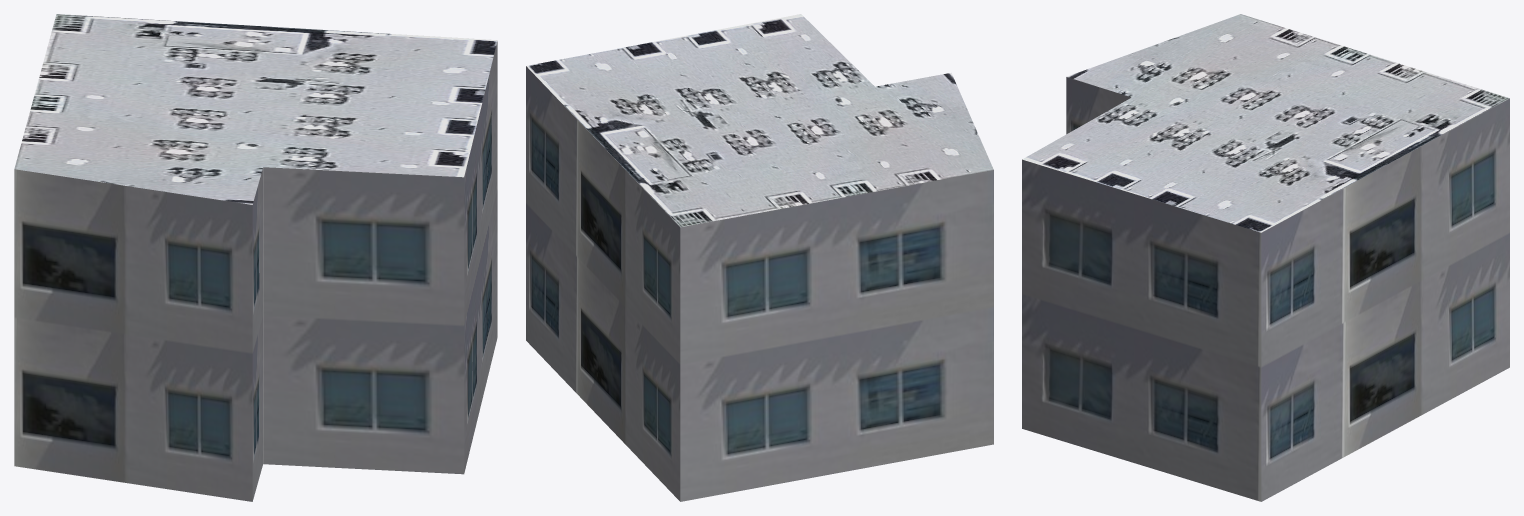
File: ResTex__2970.fbx
3 views of the same model, side by side, from view 1: azimuth 30°, elevation 25°; view 2: azimuth 150°, elevation 25°; view 3: azimuth 270°, elevation 25° (orthographic). The views are drawn at different scales.
Parts seen in each view (by area): view 1: CityEngineMaterial_10_m, CityEngineMaterial_8_m; view 2: CityEngineMaterial_10_m, CityEngineMaterial_8_m; view 3: CityEngineMaterial_10_m, CityEngineMaterial_8_m.
Boxes of the visible parts, <box> form: CityEngineMaterial_10_m: <box>14,41,497,501</box>; CityEngineMaterial_8_m: <box>14,14,497,204</box>; CityEngineMaterial_10_m: <box>526,66,993,501</box>; CityEngineMaterial_8_m: <box>526,14,993,227</box>; CityEngineMaterial_10_m: <box>1022,77,1509,501</box>; CityEngineMaterial_8_m: <box>1022,14,1509,232</box>.
Size of the model in its own units: 10.46 by 6 by 9.86.
Materials: 2 (2 with a texture image).
